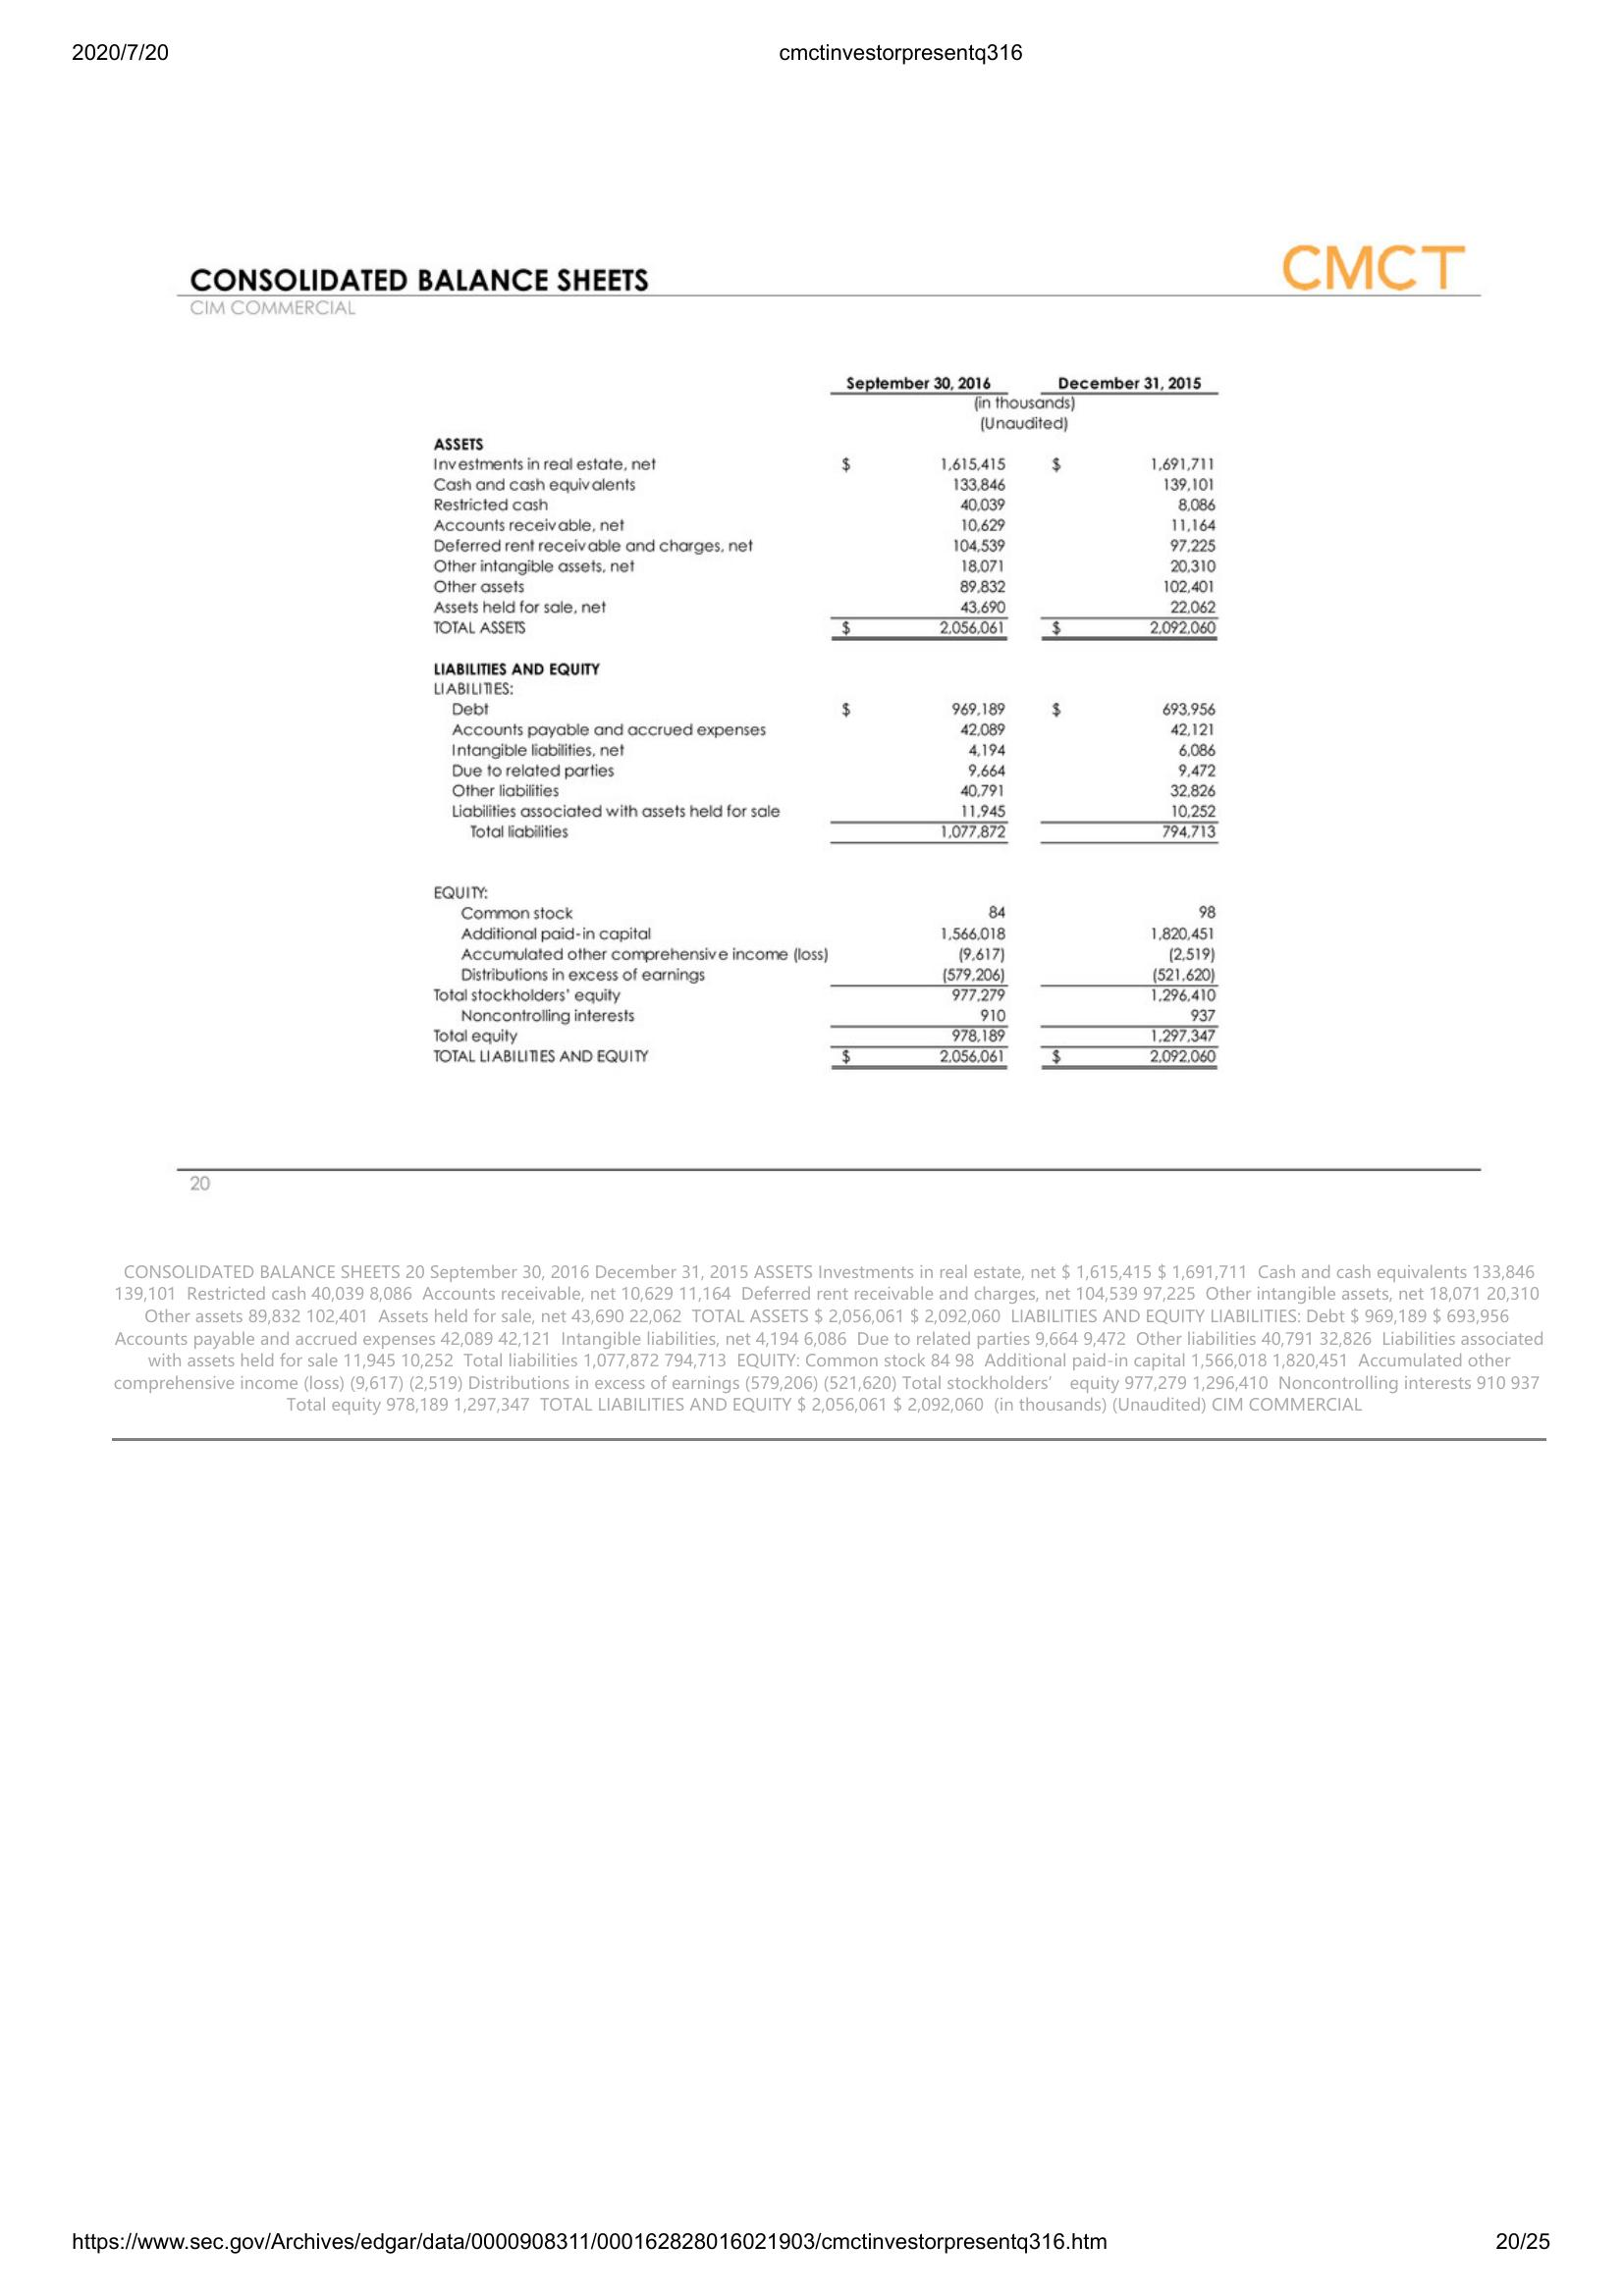table: (422, 370, 1224, 1080)
